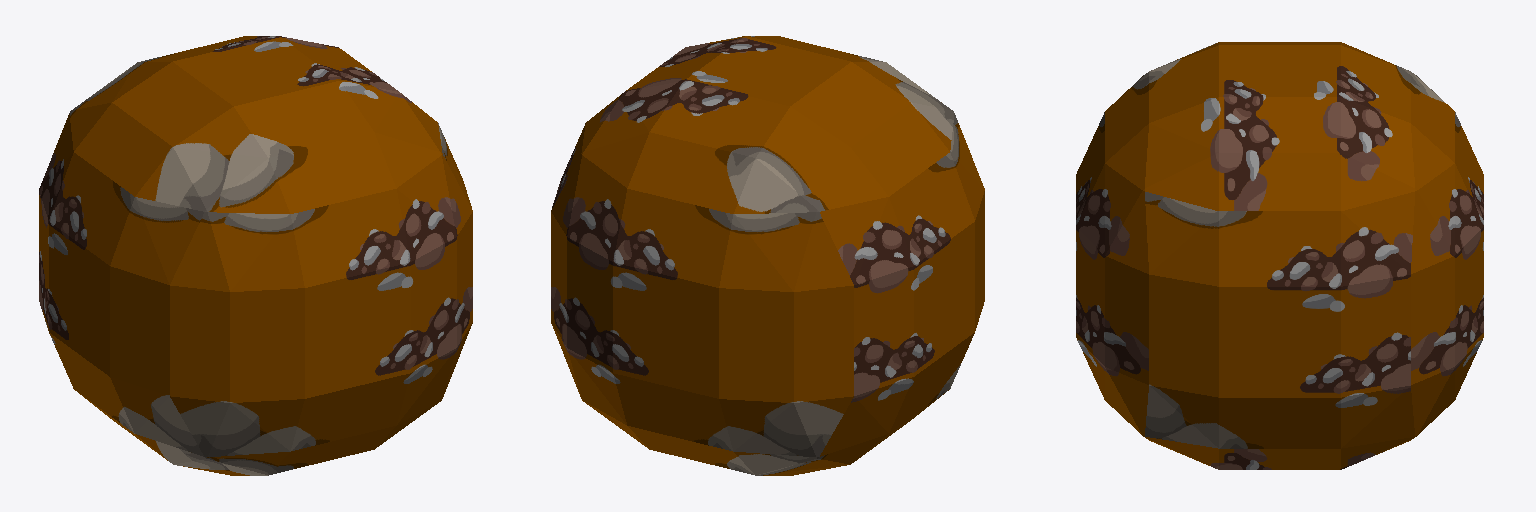
3 views of the same model, side by side, from view 1: azimuth 30°, elevation 25°; view 2: azimuth 150°, elevation 25°; view 3: azimuth 270°, elevation 25° (orthographic).
Parts seen in each view (by area): view 1: Cube; view 2: Cube; view 3: Cube.
Boxes of the visible parts, x1,y1,x2,y2 form: Cube: [39, 36, 472, 475]; Cube: [551, 36, 984, 475]; Cube: [1076, 42, 1483, 469].
Size of the model in its own units: 2 by 2 by 2.
Materials: 1 (1 with a texture image).